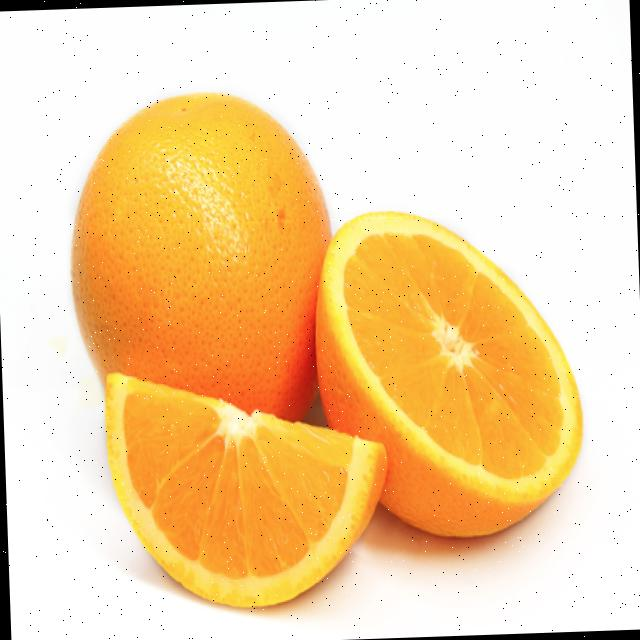Jeruk: (310, 202, 588, 544), (64, 86, 338, 428), (104, 360, 394, 612)
